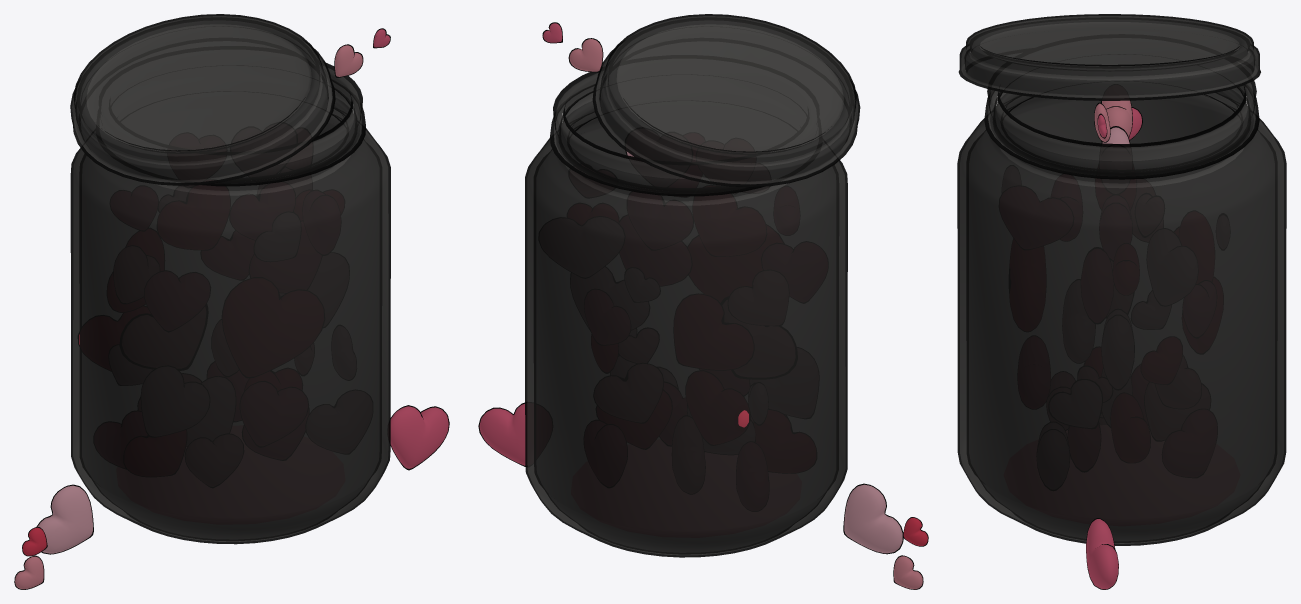
The model's file is heart_can.glb.
3 renders of one model, left to right at view 1: azimuth 30°, elevation 25°; view 2: azimuth 150°, elevation 25°; view 3: azimuth 270°, elevation 25°, orthographic. The views are drawn at different scales.
Parts seen in each view (by area): view 1: Object_7, Object_8, Object_5, Object_3; view 2: Object_7, Object_8, Object_5, Object_3; view 3: Object_7, Object_8, Object_5.
Part boxes in pixels (x1,y1,x2,y2): Object_7: (70, 14, 390, 544); Object_8: (72, 16, 387, 541); Object_5: (15, 45, 448, 589); Object_3: (14, 44, 449, 589); Object_7: (525, 14, 860, 557); Object_8: (528, 16, 857, 554); Object_5: (479, 39, 927, 589); Object_3: (478, 38, 928, 589); Object_7: (957, 14, 1286, 545); Object_8: (960, 16, 1283, 543); Object_5: (1086, 100, 1141, 589).
Bounding box in the file's own units: 3.65 × 3.86 × 2.32.
Materials: 5 (1 with a texture image).
